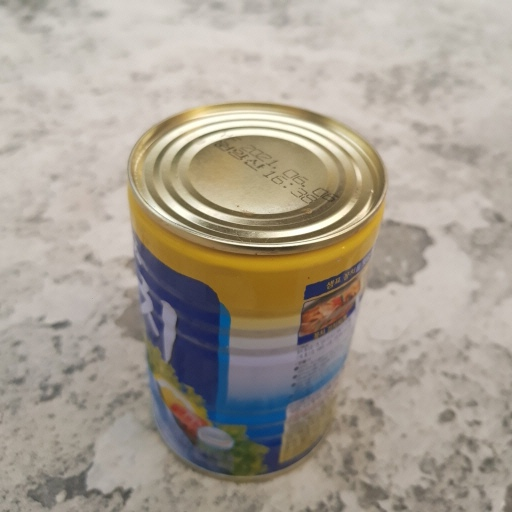Metal_1: (126, 103, 388, 484)
